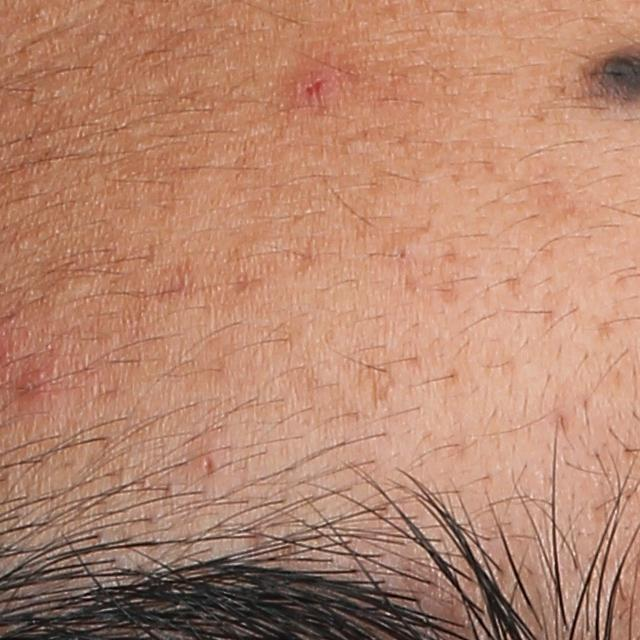comedo: (60, 276, 93, 300)
papule: (289, 56, 345, 111)
